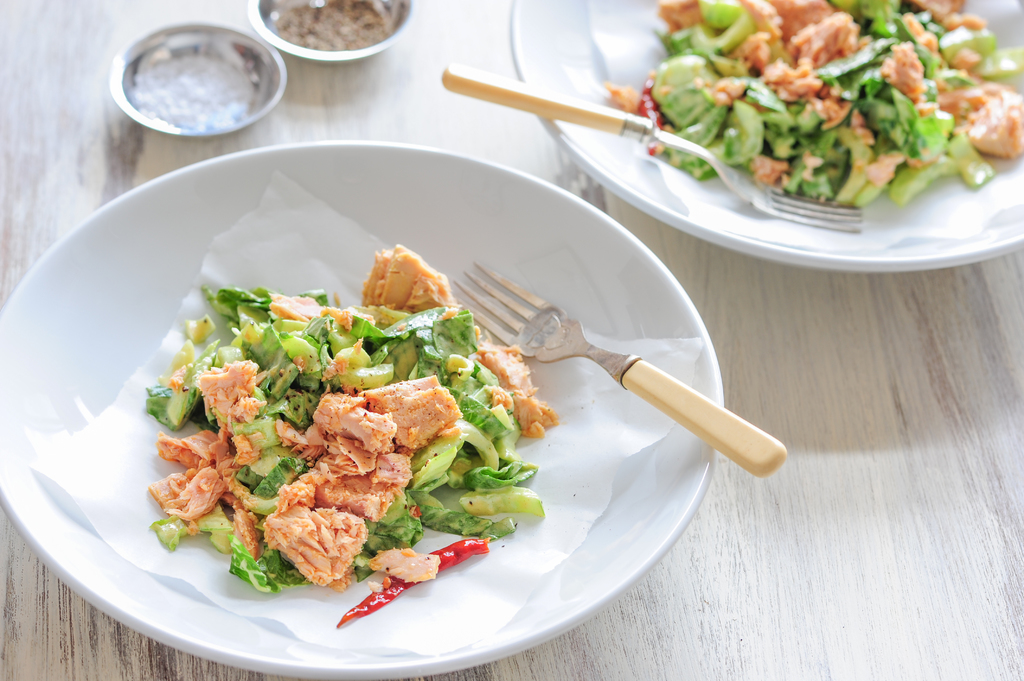salad: (140, 243, 565, 627), (596, 0, 1023, 214)
